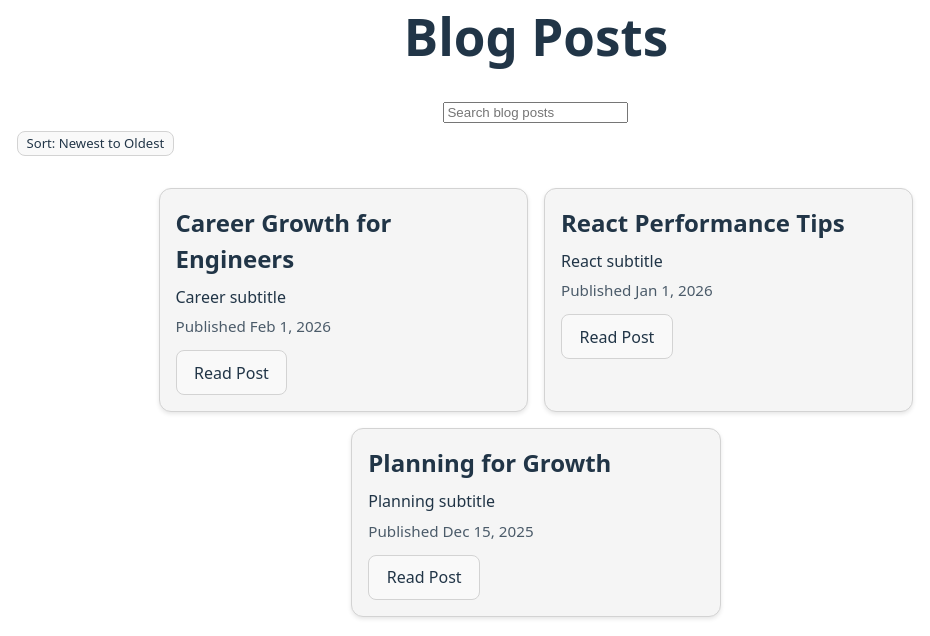
Test case: Blog › happy path: toggles blog sort order from newest to oldest to oldest to newest
Expected: the headings read "Career Growth for Engineers", "React Performance Tips", "Planning for Growth", in this order, [176,206,391,275]; [561,206,845,239]; [368,446,611,479]
Click the button "Sort: Newest to Oldest" at {"x": 95, "y": 143}, box [17,131,174,156]
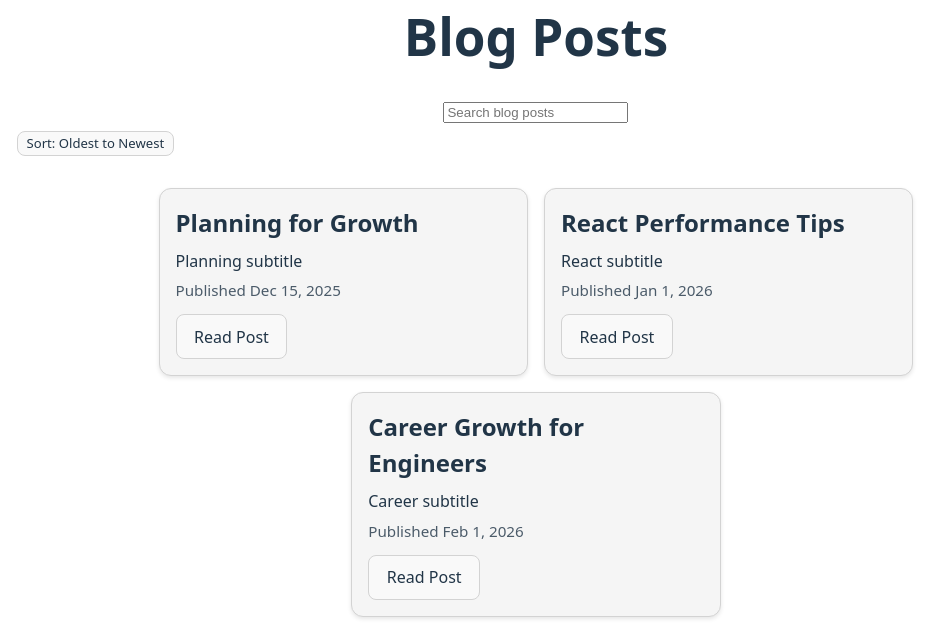
Result: the headings read "Planning for Growth", "React Performance Tips", "Career Growth for Engineers", in this order at [176,206,419,239]; [561,206,845,239]; [368,410,584,479]
